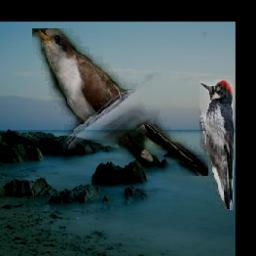Cuckoo: (33, 29, 209, 177)
Woodpecker: (201, 79, 235, 210)
